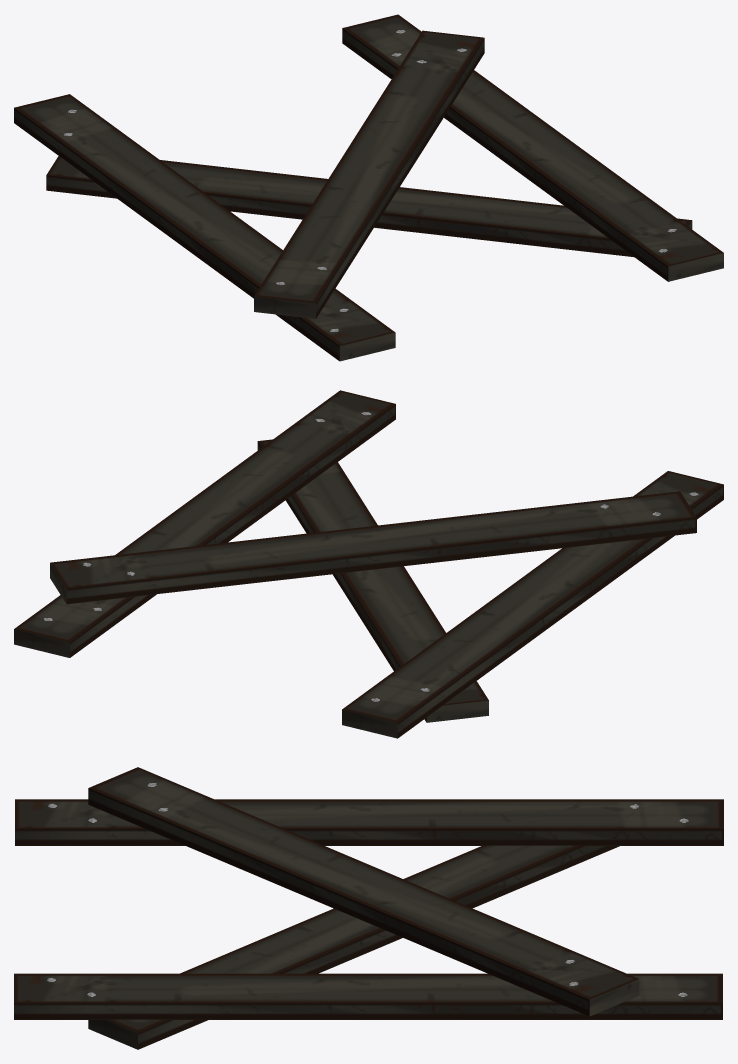
File: Planks2.fbx
3 renders of one model, top to bottom at view 1: azimuth 30°, elevation 25°; view 2: azimuth 150°, elevation 25°; view 3: azimuth 270°, elevation 25°, orthographic. The views are drawn at different scales.
Visible parts, largest first — view 1: Wooden Plank Repair.003; view 2: Wooden Plank Repair.003; view 3: Wooden Plank Repair.003.
Boxes of the visible parts, x1,y1,x2,y2 form: Wooden Plank Repair.003: [14, 14, 723, 361]; Wooden Plank Repair.003: [14, 390, 723, 738]; Wooden Plank Repair.003: [14, 767, 723, 1049].
Bounding box in the file's own units: 98.01 × 9.82 × 126.
